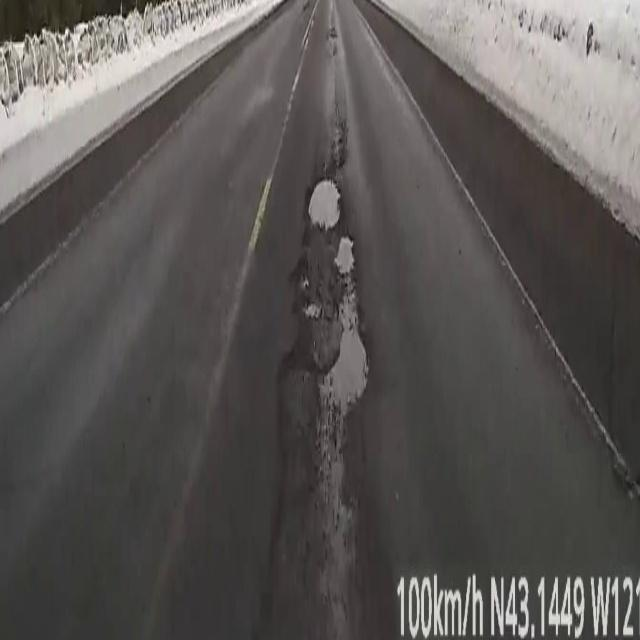pothole: (260, 166, 370, 537)
